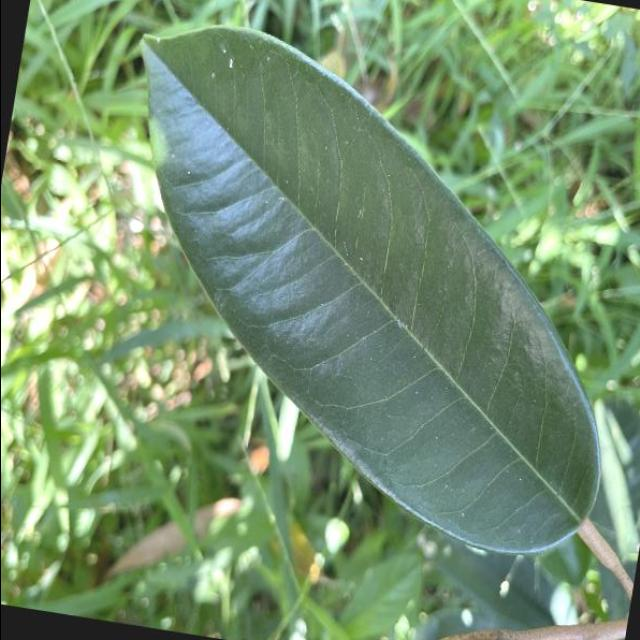No Disease: (61, 3, 640, 575)
